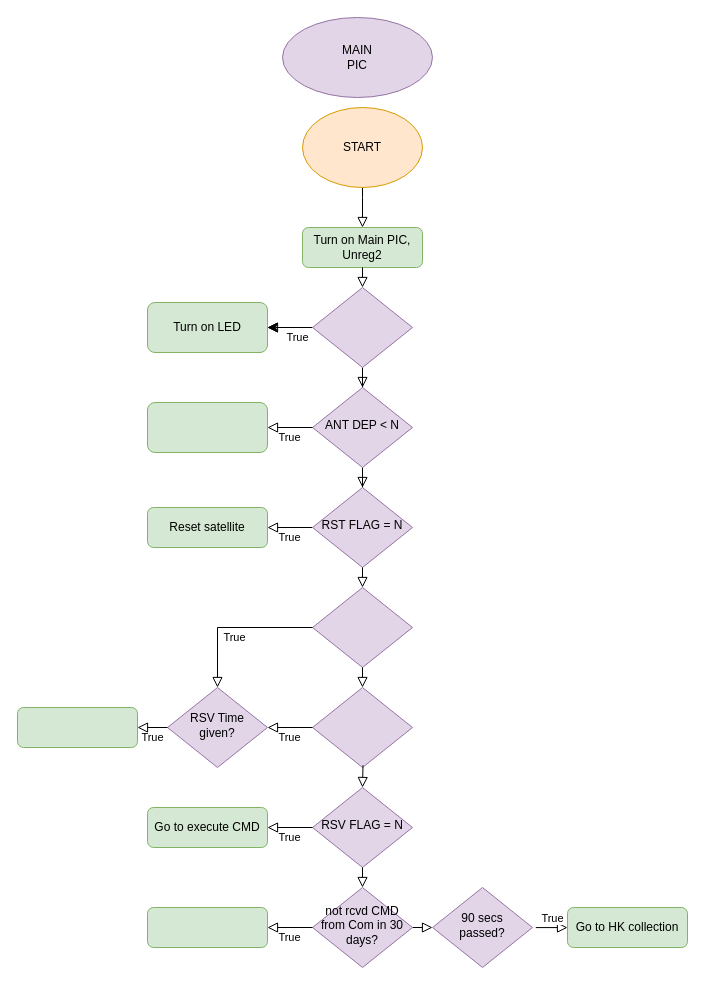
Image size: 705x985. Some labels were removed from this diagram. Here are the shapes that lost their labels. From the top down, the box of each, then its label:
(312, 286, 412, 368): 5-10 mins after DEP
(146, 402, 268, 452): Attempt ANT DEP
(312, 586, 412, 668): CMD from PC
(16, 706, 138, 748): Reserve CMD
(312, 686, 412, 768): CMD from Com
(146, 906, 268, 948): Stop CW
